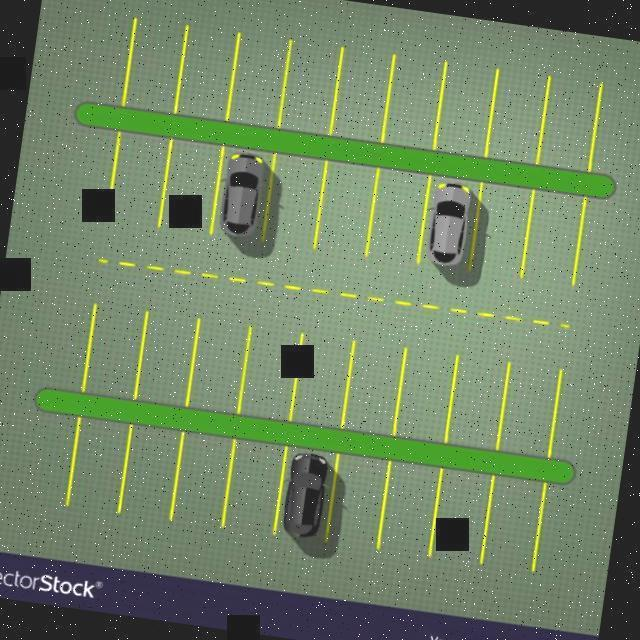car: (415, 172, 487, 285), (269, 443, 347, 546), (208, 143, 279, 246)
free: (155, 134, 234, 243), (101, 131, 184, 231), (79, 299, 157, 402), (182, 317, 261, 418), (390, 346, 466, 450), (375, 458, 450, 560), (474, 473, 551, 572), (234, 325, 309, 426), (63, 414, 133, 516), (534, 77, 605, 177), (492, 364, 562, 465), (121, 16, 192, 115), (339, 342, 410, 440), (485, 68, 555, 167), (276, 37, 346, 134), (379, 57, 449, 152)
